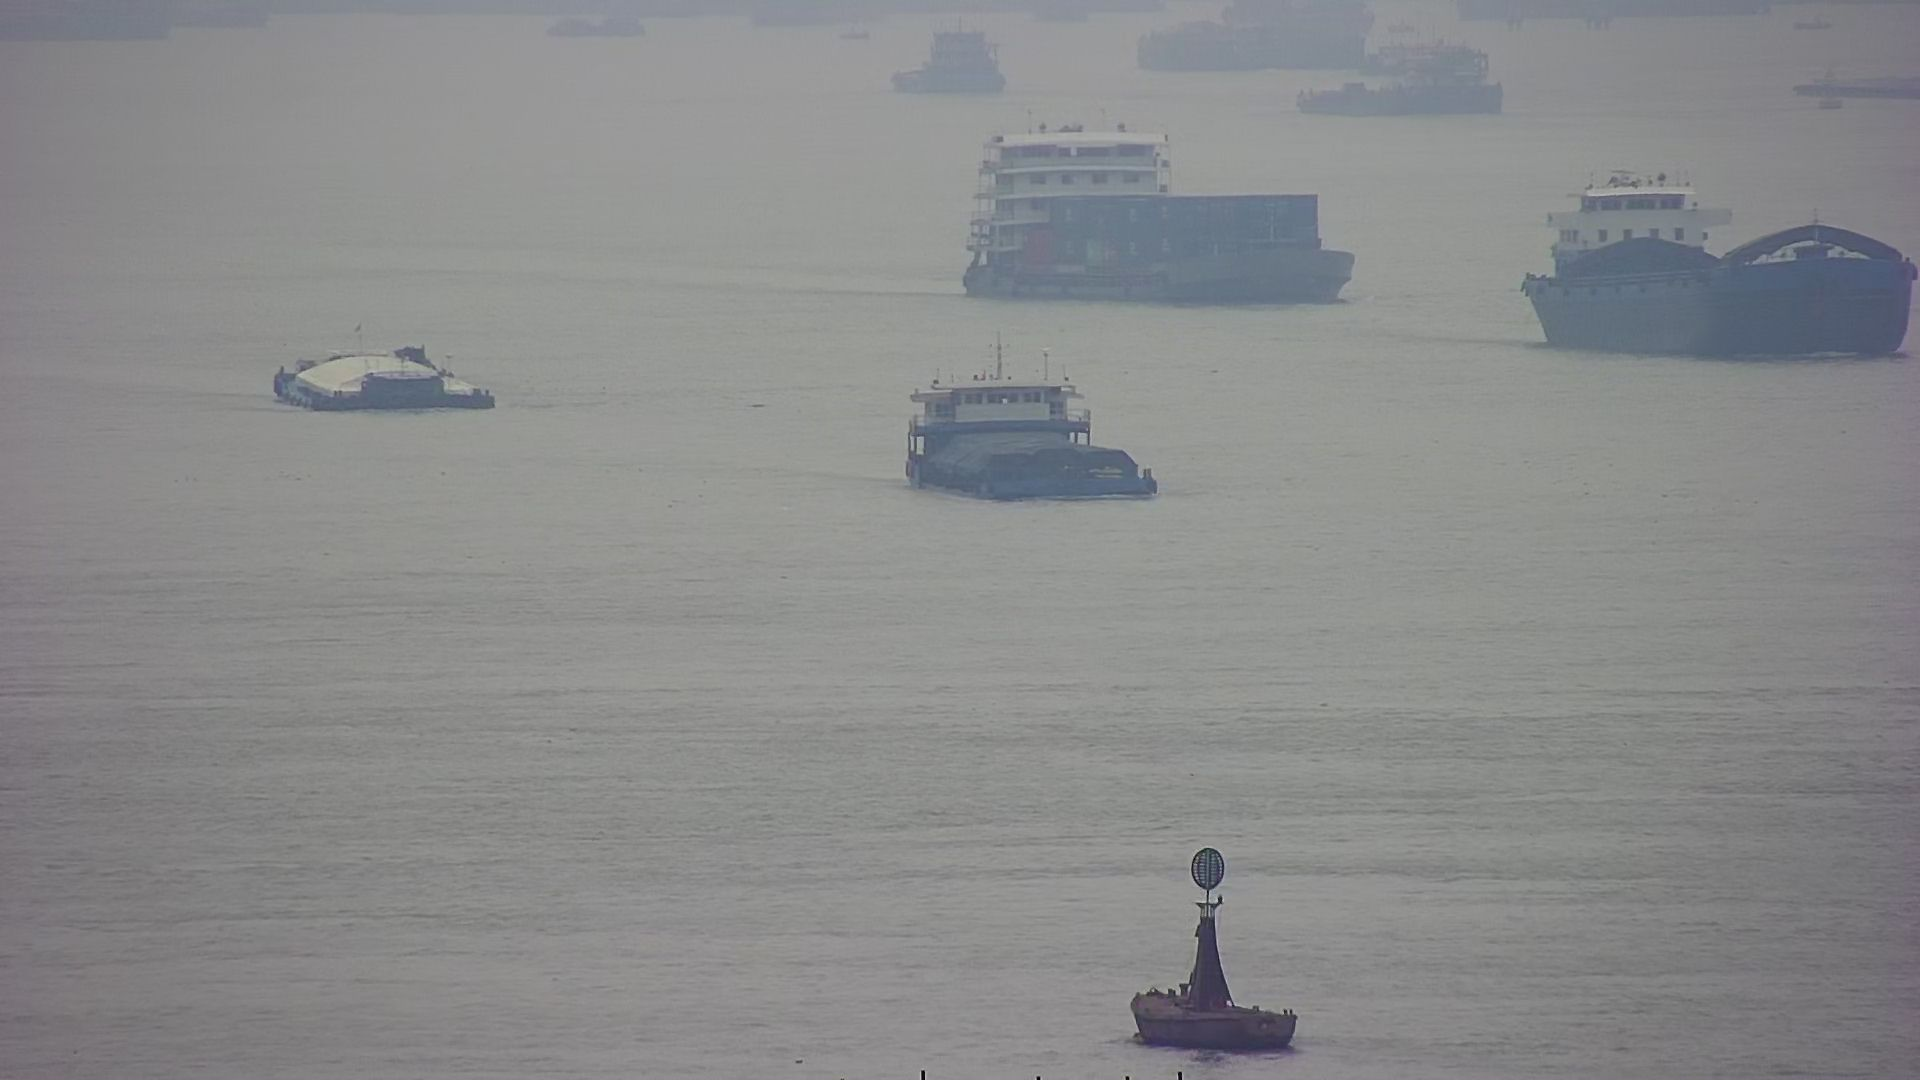boat: (1130, 847, 1298, 1055)
ship: (1513, 165, 1920, 364), (967, 124, 1360, 311), (895, 338, 1166, 505), (266, 323, 498, 413)
